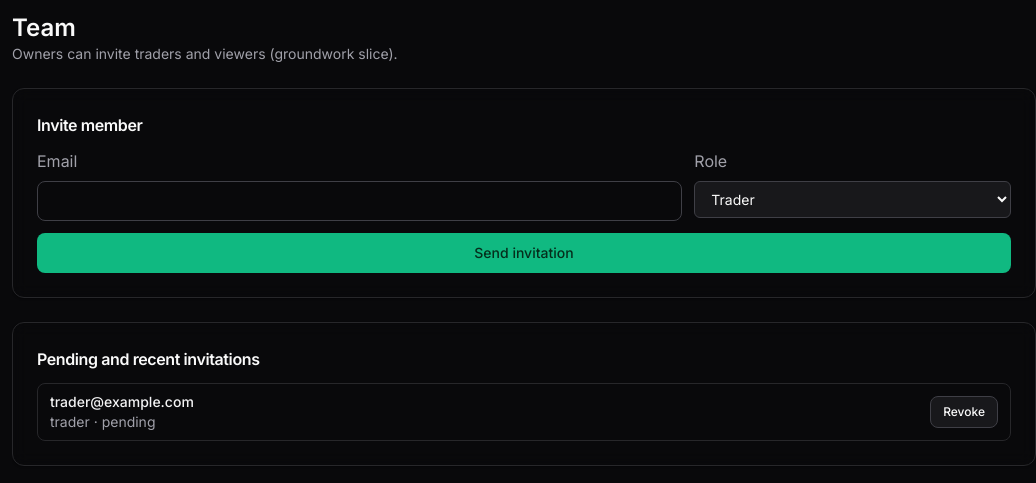
it: InvitationsPage loading/error honesty › still revokes pending invitations and reloads the list
Expected: the text "trader@example.com" is shown, x1=50 y1=392 x2=194 y2=412
Step 1. Click the button "Revoke" → (964, 412), box x1=930 y1=396 x2=998 y2=428
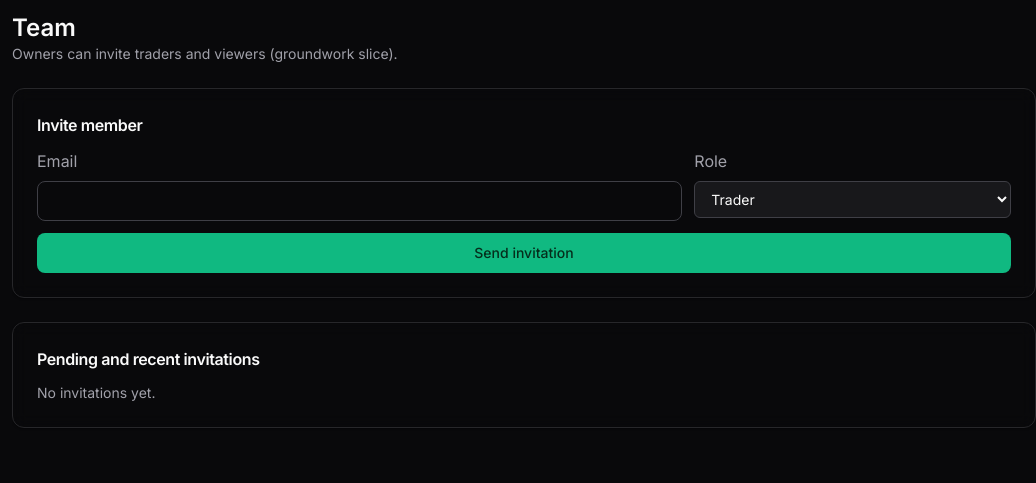
Expected: the text "No invitations yet." is shown, x1=37 y1=384 x2=156 y2=401
